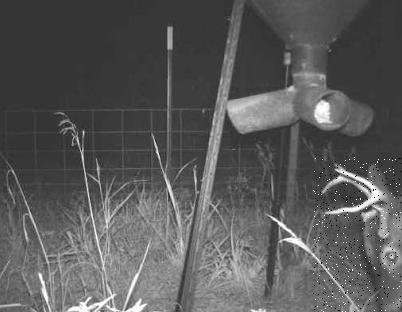Deer: (313, 157, 402, 312)
